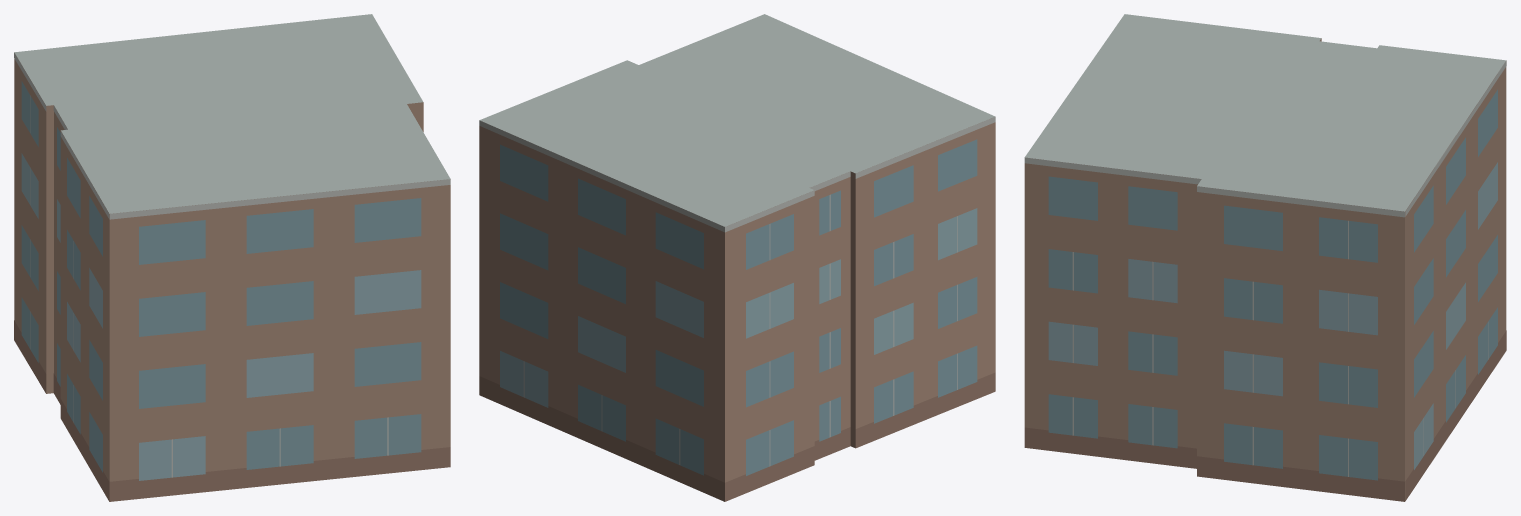
File: survey-upis-32597253.glb
The picture shows the model from 3 angles, left to right: view 1: azimuth 30°, elevation 25°; view 2: azimuth 150°, elevation 25°; view 3: azimuth 270°, elevation 25°; orthographic projection. The views are drawn at different scales.
Visible parts, largest first — view 1: survey-upis-32597253.tmp; view 2: survey-upis-32597253.tmp; view 3: survey-upis-32597253.tmp.
Part boxes in pixels (x1=…): survey-upis-32597253.tmp: x1=14, y1=14, x2=450, y2=501; survey-upis-32597253.tmp: x1=479, y1=14, x2=995, y2=501; survey-upis-32597253.tmp: x1=1024, y1=14, x2=1506, y2=501.
Size of the model in its own units: 17.76 by 12.16 by 18.3.
